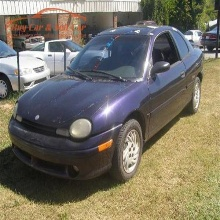no damage: (8, 25, 204, 182), (1, 39, 51, 100), (34, 39, 82, 76)
